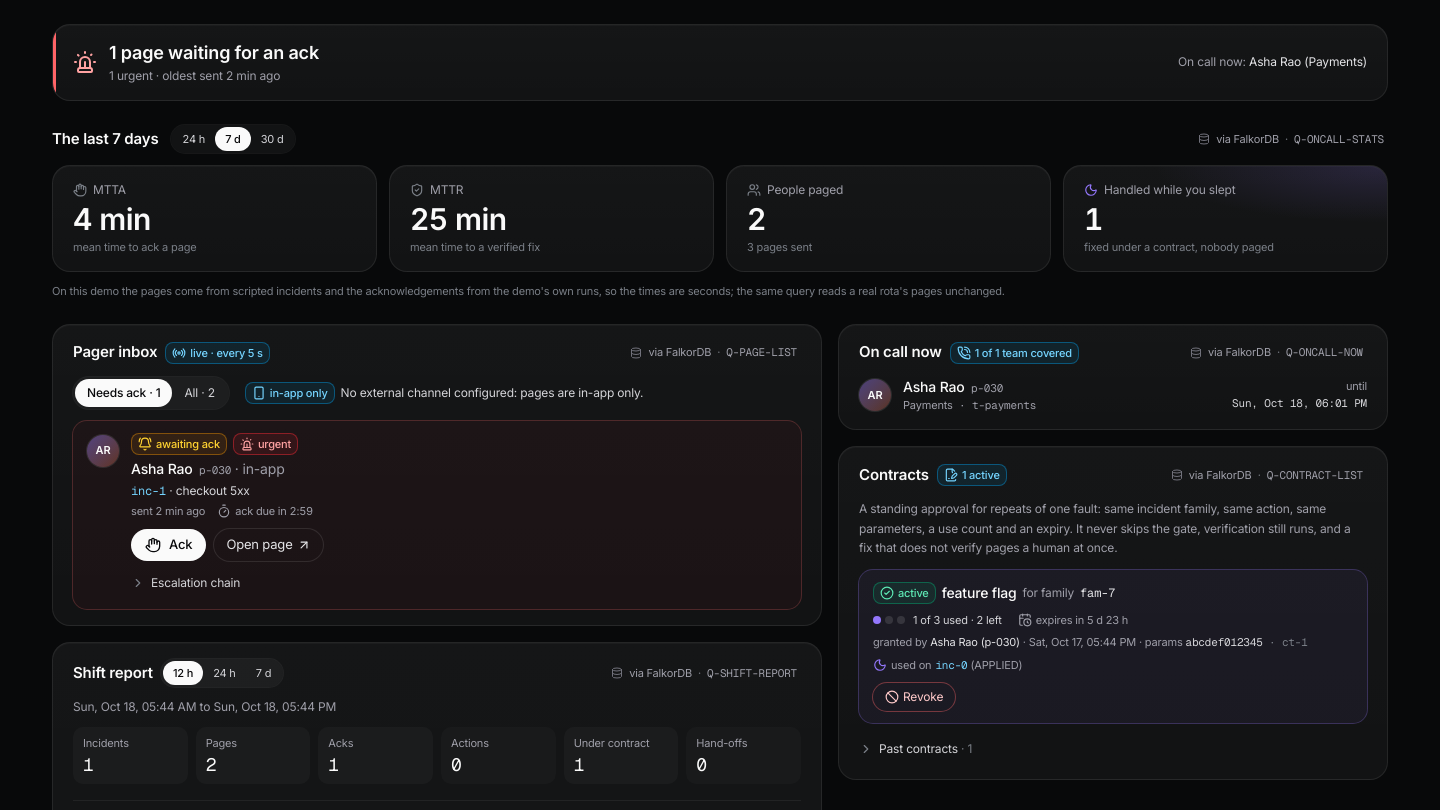
Scenario: /oncall › acks a page from the inbox (POST /api/pages/{id}/ack) and re-reads the pager
The width and height of the screenshot is (1440, 810).
Click the button with aria-label "Ack the page to Asha Rao (p-030)". click: (169, 545)
box: [131,529,206,561]
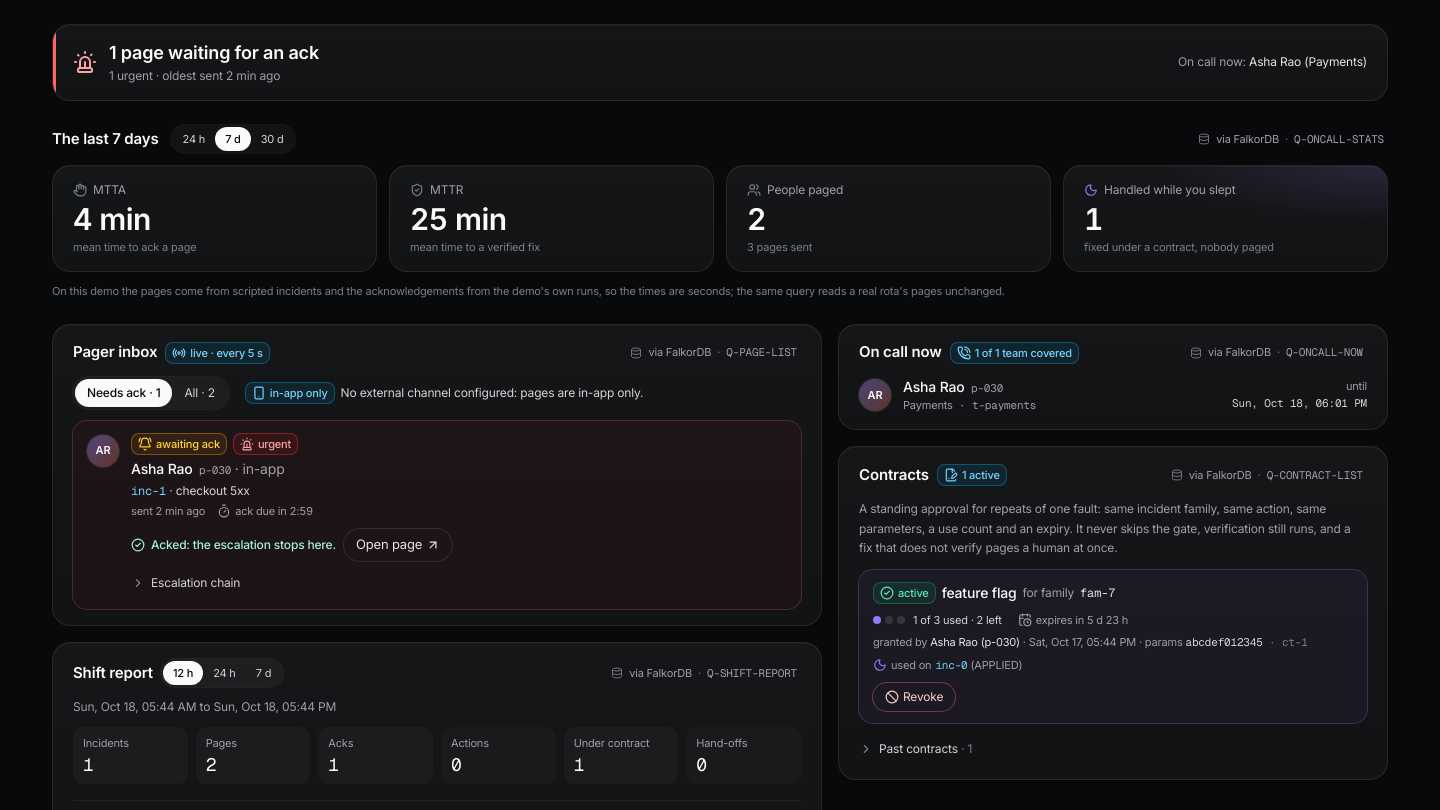
Expected: the text "Acked: the escalation stops here." is shown, [131,537,336,553]
